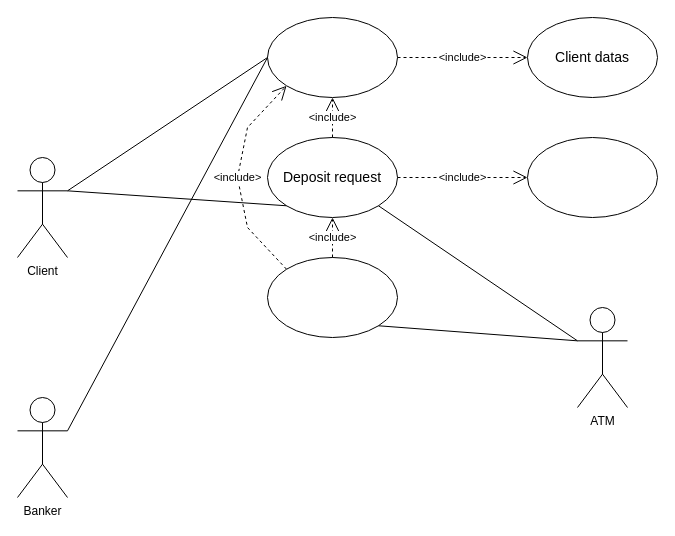
The diagram is 675 pixels wide and 536 high, and some of its shapes have lost their labels. The shapes that lost their labels are listed below. From the top down, each one's centre as x and y in pixels, then its label:
At (x=332, y=57): "Client registration".
At (x=592, y=177): "Account ID number".
At (x=332, y=297): "Get deposit".
